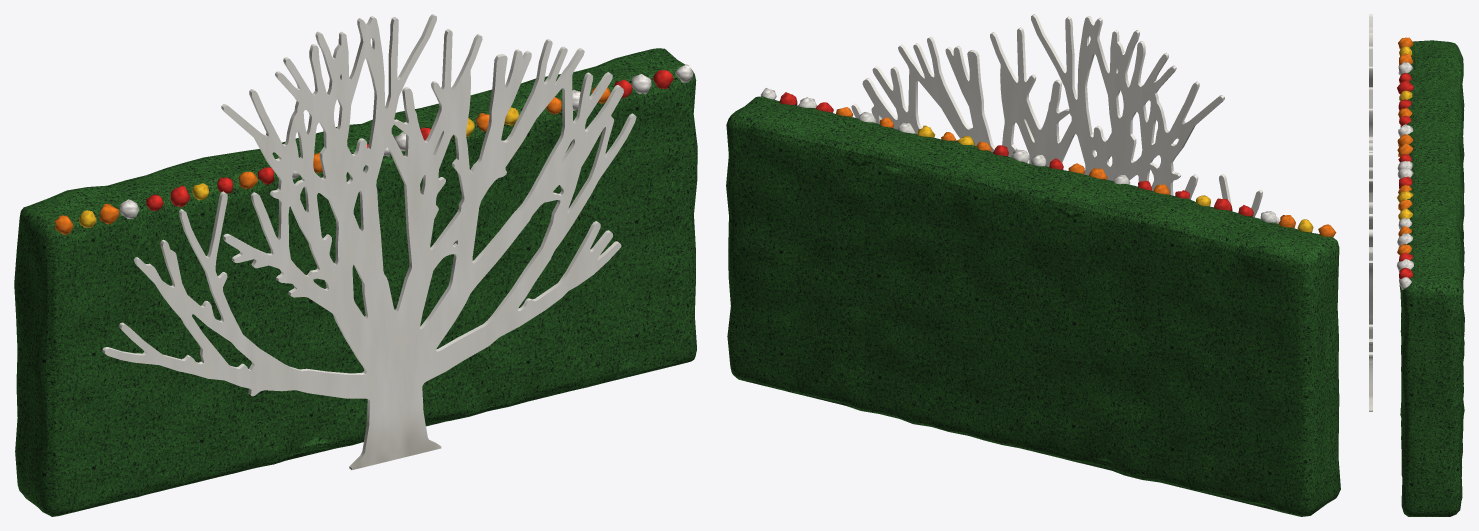
File: wishing-tree.glb
The picture shows the model from 3 angles, left to right: view 1: azimuth 30°, elevation 25°; view 2: azimuth 150°, elevation 25°; view 3: azimuth 270°, elevation 25°; orthographic projection. The views are drawn at different scales.
Visible parts, largest first — view 1: hedge, tree; view 2: hedge, tree; view 3: hedge, tree.
Boxes of the visible parts, x1,y1,x2,y2 form: hedge: (14, 48, 697, 516); tree: (102, 14, 636, 469); hedge: (726, 88, 1340, 516); tree: (851, 14, 1279, 223); hedge: (1396, 37, 1464, 516); tree: (1369, 14, 1372, 411).
Bounding box in the file's own units: 6.04 × 3.95 × 0.9686.
Materials: 3 (3 with a texture image).
